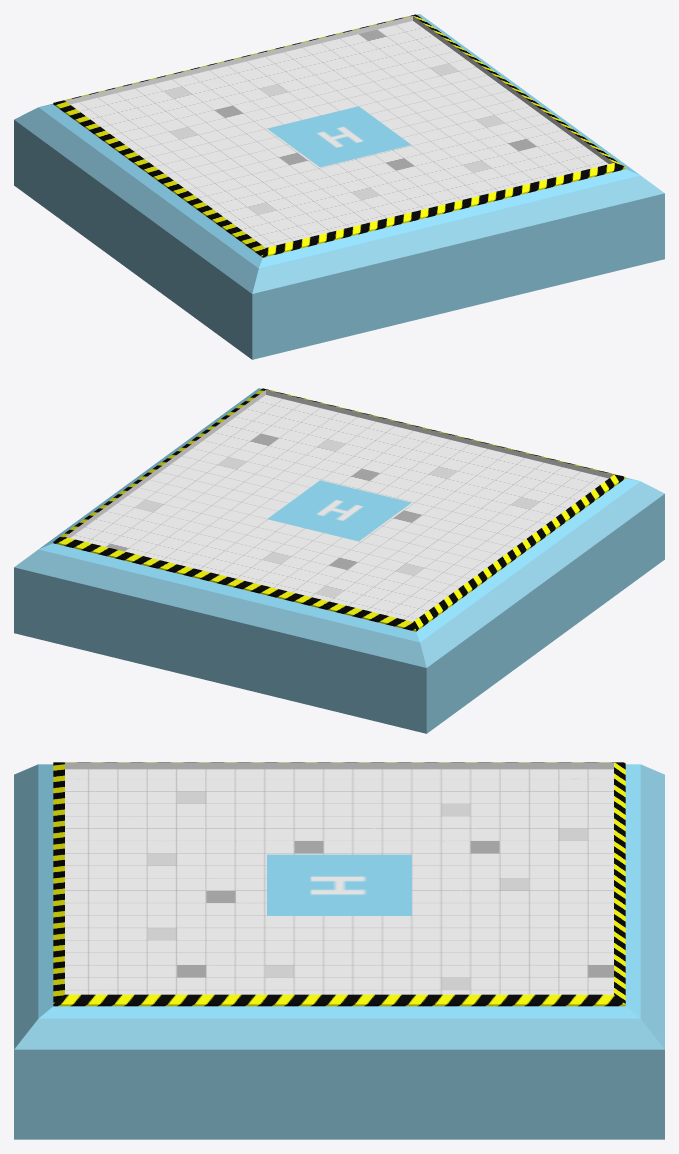
The model's file is building6.fbx.
3 views of the same model, one above another, from view 1: azimuth 30°, elevation 25°; view 2: azimuth 150°, elevation 25°; view 3: azimuth 270°, elevation 25° (orthographic). The views are drawn at different scales.
Visible parts, largest first — view 1: building, floor; view 2: building, floor; view 3: floor, building.
Part boxes in pixels (x1,y1,x2,y2): building: [14, 14, 664, 359]; floor: [70, 21, 608, 247]; building: [14, 388, 664, 733]; floor: [70, 395, 608, 621]; floor: [65, 769, 613, 994]; building: [14, 762, 664, 1139].
Bounding box in the file's own units: 38.85 × 8.14 × 38.85.
1 material, 1 textured.
